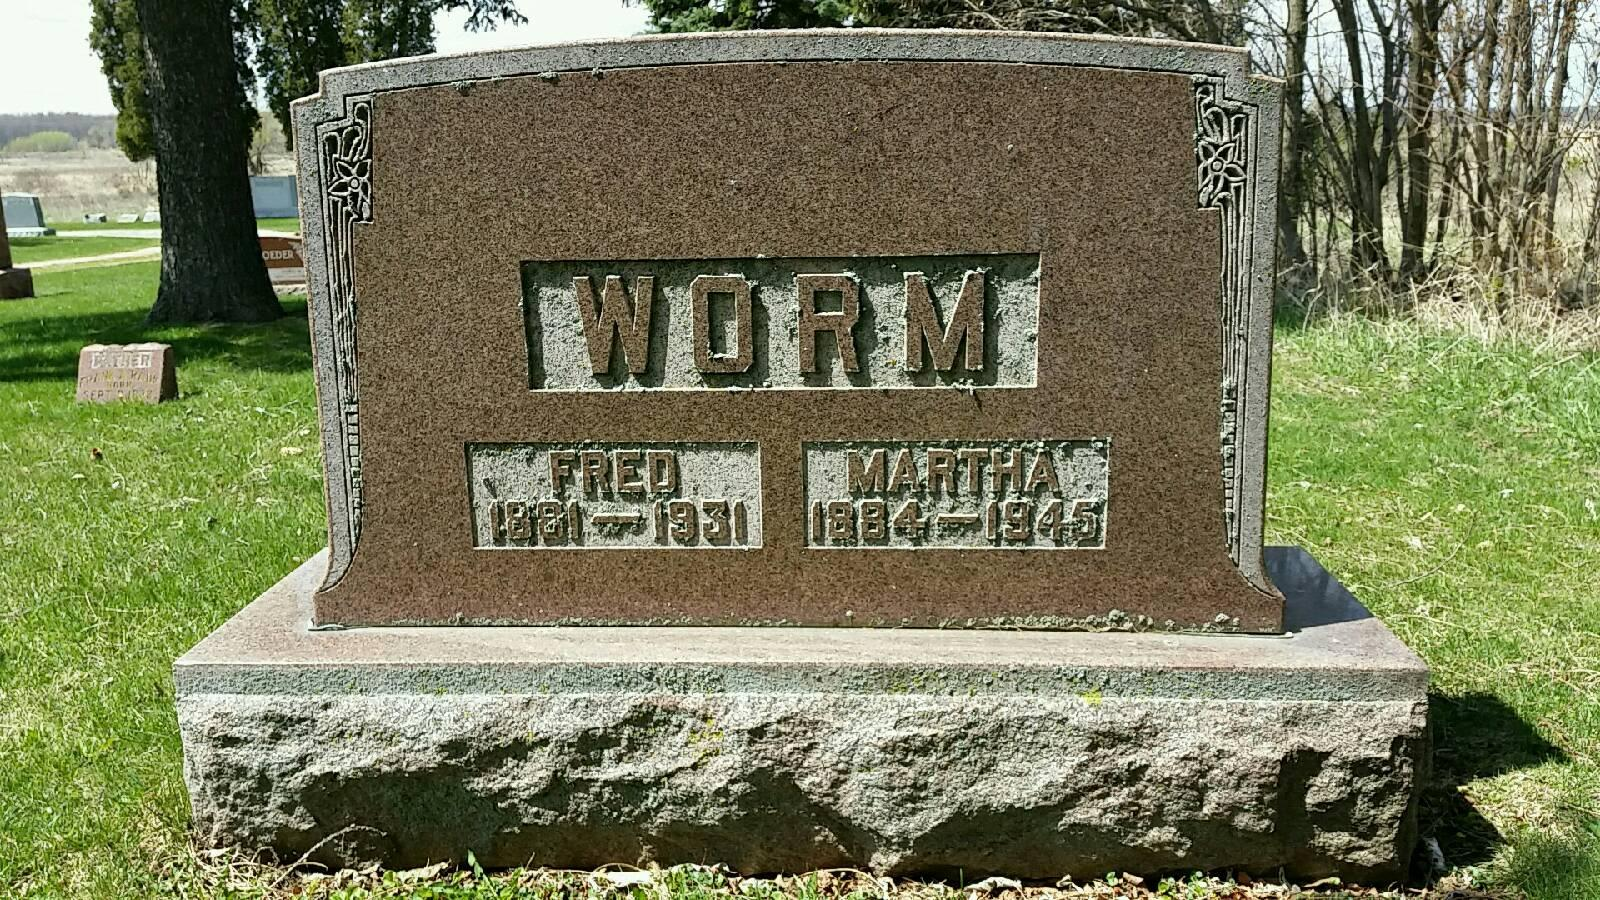upright: (180, 23, 1430, 890)
